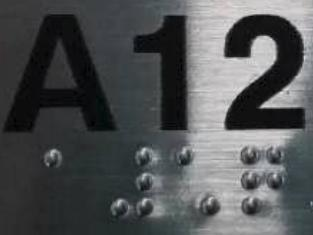Braille: (174, 146, 221, 215), (240, 146, 283, 217), (110, 147, 153, 217), (44, 147, 86, 217)
